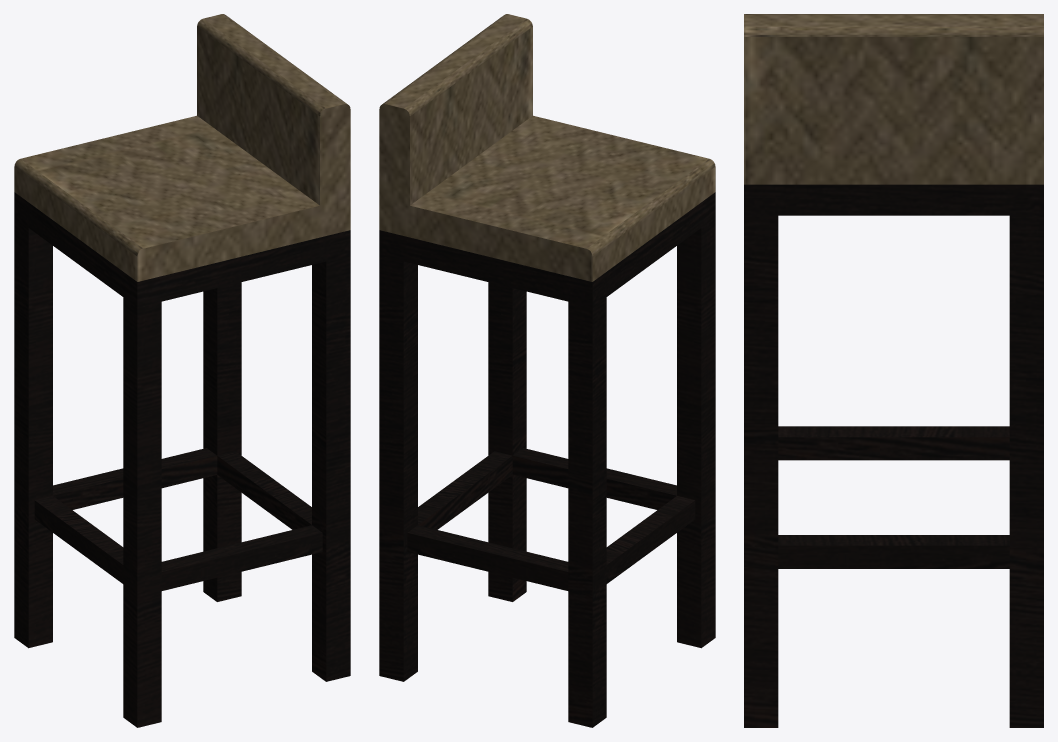
The model's file is sgabello.glb.
3 renders of one model, left to right at view 1: azimuth 30°, elevation 25°; view 2: azimuth 150°, elevation 25°; view 3: azimuth 270°, elevation 25°, orthographic. The views are drawn at different scales.
Size of the model in its own units: 0.35 by 0.9 by 0.35.
5 materials, 3 textured.
